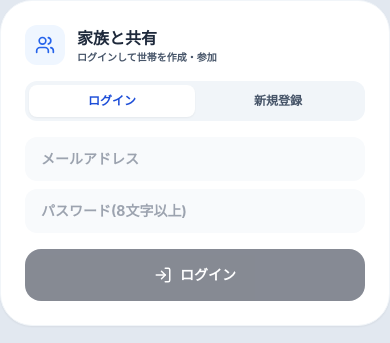
AccountPanel (logged out) › disables the login button until both fields are filled
The width and height of the screenshot is (390, 343).
Check: the button with aria-label "ログインする" is disabled, box [25,249,365,301]
Type "a@example.com" into the field with placeholder "メールアドレス".
click(195, 159); type("a@example.com")  # box [25,137,365,181]
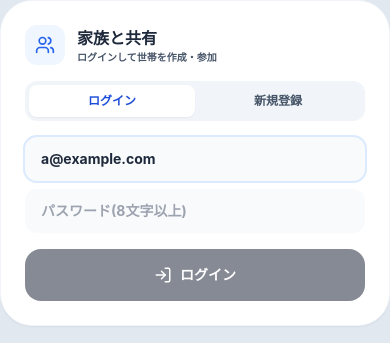
Type "password123" into the password field with placeholder "パスワード(8文字以上)".
click(195, 211); type("password123")  # box [25,189,365,233]
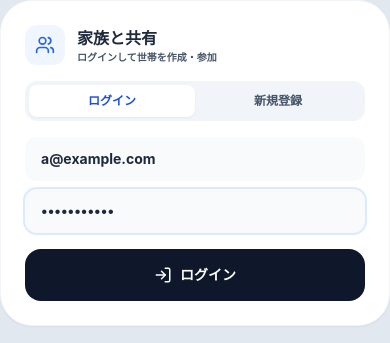
Check: the button with aria-label "ログインする" is enabled, box [25,249,365,301]
